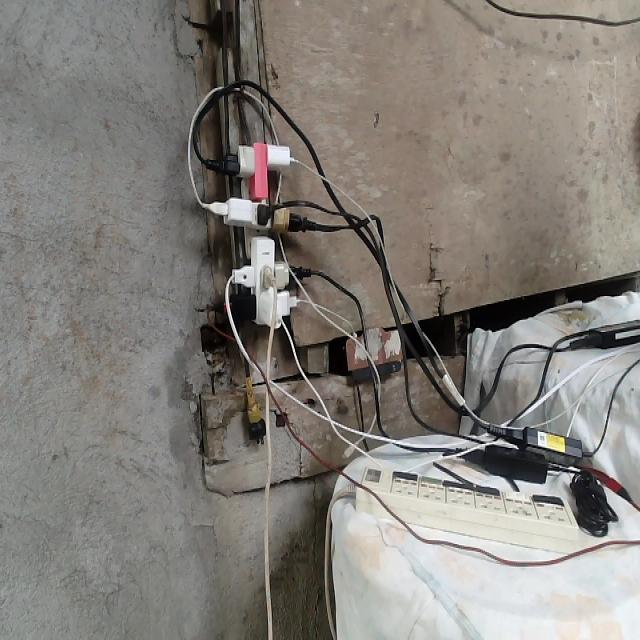-: (215, 139, 305, 329)
